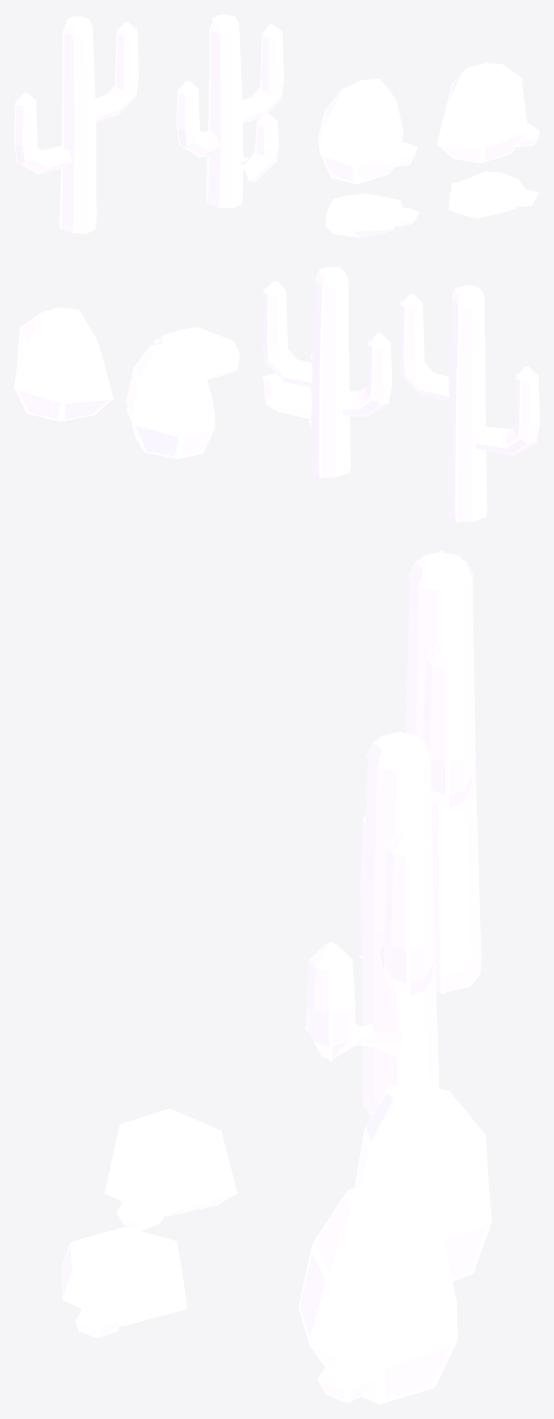
Rendered from synth-props.glb.
The picture shows the model from 3 angles, top to bottom: view 1: azimuth 30°, elevation 25°; view 2: azimuth 150°, elevation 25°; view 3: azimuth 270°, elevation 25°; orthographic projection. The views are drawn at different scales.
Parts seen in each view (by area): view 1: Cactus_Synth_Forked body, Cactus_Synth_Saguaro body, Boulder_Synth_A stone, Boulder_Synth_B stone, Rock_Synth_A stone, Rock_Synth_B stone; view 2: Cactus_Synth_Saguaro body, Cactus_Synth_Forked body, Boulder_Synth_B stone, Boulder_Synth_A stone, Rock_Synth_B stone, Rock_Synth_A stone; view 3: Cactus_Synth_Forked body, Boulder_Synth_B stone, Cactus_Synth_Saguaro body, Boulder_Synth_A stone, Rock_Synth_A stone, Rock_Synth_B stone.
Part boxes in pixels (x1,y1,x2,y2): Cactus_Synth_Forked body: [176, 14, 283, 208]; Cactus_Synth_Saguaro body: [14, 16, 138, 233]; Boulder_Synth_A stone: [318, 78, 417, 184]; Boulder_Synth_B stone: [437, 63, 539, 162]; Rock_Synth_A stone: [325, 193, 418, 237]; Rock_Synth_B stone: [448, 171, 538, 218]; Cactus_Synth_Saguaro body: [398, 285, 539, 522]; Cactus_Synth_Forked body: [262, 266, 392, 477]; Boulder_Synth_B stone: [14, 307, 113, 421]; Boulder_Synth_A stone: [126, 343, 214, 458]; Rock_Synth_B stone: [154, 327, 239, 379]; Rock_Synth_A stone: [262, 373, 311, 418]; Cactus_Synth_Forked body: [305, 731, 440, 1115]; Boulder_Synth_B stone: [298, 1182, 457, 1404]; Cactus_Synth_Saguaro body: [404, 551, 482, 993]; Boulder_Synth_A stone: [354, 1083, 491, 1281]; Rock_Synth_A stone: [104, 1108, 237, 1230]; Rock_Synth_B stone: [62, 1227, 187, 1338].
Size of the model in its own units: 11.09 by 4.59 by 4.11.
